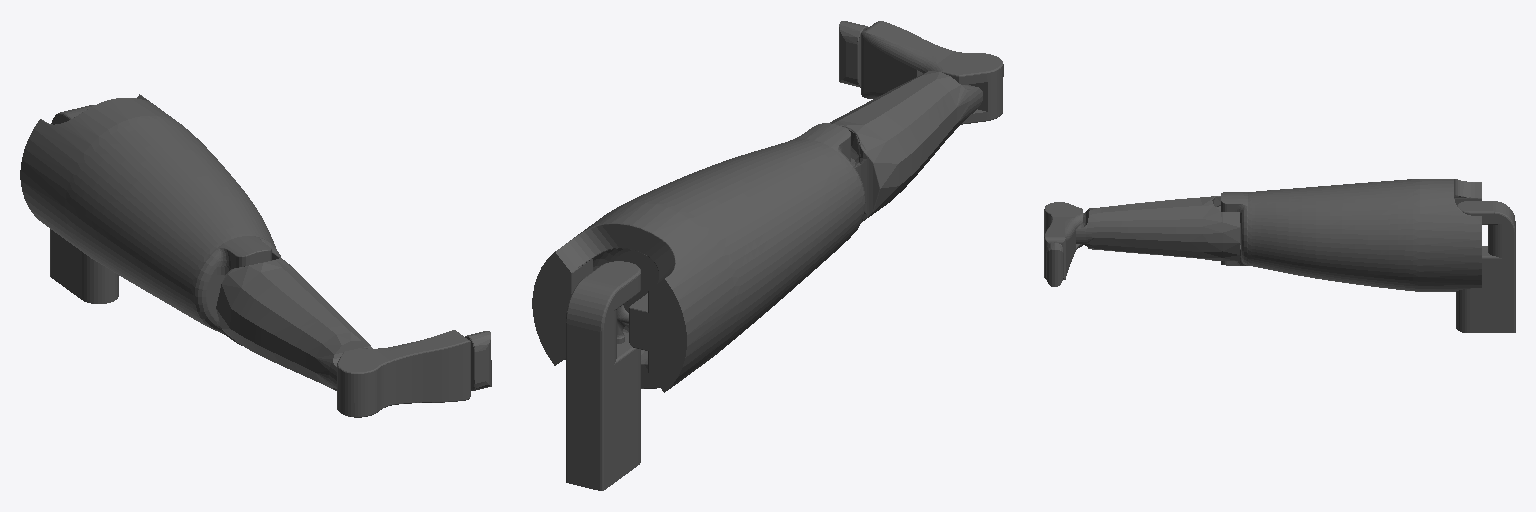
URDF robot description (robot_demo):
<?xml version="1.0"?>

<robot name="robot_demo">
  
   <material name="gray">
      <color rgba="0.4078 0.4078 0.4078 1"/>
   </material>  
 
   <link name="Hip">
      <inertial>
         <origin rpy="0 0 0" xyz="-0.1208 0.0491 0" />
         <mass value="4.15096500661102"/>
         <inertia ixx="0.0111018856" ixy="-0.0021856788" ixz="0" iyy="0.050897466" iyz="0" izz="0.0578371271" />
      </inertial>
 
      <visual>
         <geometry>
            <mesh filename="package://prosthesis/model/meshes/Hip.stl" scale="0.01 0.01 0.01"/>
         </geometry>
         <material name="gray"/>
      </visual>
 
      <collision>
         <geometry>
            <mesh filename="package://prosthesis/model/meshes/Hip.stl" scale="0.01 0.01 0.01"/>
         </geometry>
      </collision>
   </link>

   <link name="U_Joint">
      <inertial>
         <origin rpy="0 0 0" xyz="0 0 0" />
         <mass value="0.0760766233244915"/>
         <inertia ixx="3.83748E-05" ixy="0" ixz="0" iyy="9.53528E-05" iyz="0" izz="6.14204E-05" />
      </inertial>
 
      <visual>
         <geometry>
            <mesh filename="package://prosthesis/model/meshes/U_Joint.stl" scale="0.01 0.01 0.01"/>
         </geometry>
         <material name="gray"/>
      </visual>
 
      <collision>
         <geometry>
            <mesh filename="package://prosthesis/model/meshes/U_Joint.stl" scale="0.01 0.01 0.01"/>
         </geometry>
      </collision>
   </link>
 
   <link name="Thigh">
      <inertial>
         <origin rpy="0 0 0" xyz="0 -0.3081 -0.0111" />
         <mass value="40.329327914939"/>
         <inertia ixx="1.5722465158" ixy="1.90063E-05" ixz="-1.7466E-06" iyy="0.4651119469" iyz="-0.087336973" izz="1.5246716464" />
      </inertial>
 
      <visual>
         <geometry>
            <mesh filename="package://prosthesis/model/meshes/Thigh.stl" scale="0.01 0.01 0.01"/>
         </geometry>
         <material name="gray"/>
      </visual>
 
      <collision>
         <geometry>
            <mesh filename="package://prosthesis/model/meshes/Thigh.stl" scale="0.01 0.01 0.01"/>
         </geometry>
      </collision>
   </link>

   <link name="Calf">
      <inertial>
         <origin rpy="0 0 0" xyz="0 -0.8698 -0.0443" />
         <mass value="8.3979540642055"/>
         <inertia ixx="0.1337069522" ixy="-1.612E-07" ixz="4.57E-08" iyy="0.0282575571" iyz="-0.0024330515" izz="0.1300659128" />
      </inertial>
 
      <visual>
         <geometry>
            <mesh filename="package://prosthesis/model/meshes/Calf.stl" scale="0.01 0.01 0.01"/>
         </geometry>
         <material name="gray"/>
      </visual>
 
      <collision>
         <geometry>
            <mesh filename="package://prosthesis/model/meshes/Calf.stl" scale="0.01 0.01 0.01"/>
         </geometry>
      </collision>
   </link>


   <link name="Foot">
      <inertial>
         <origin rpy="0 0 0" xyz="0.0007 -1.1795 0.0232" />
         <mass value="2.01486583605614"/>
         <inertia ixx="0.0138306586" ixy="8.5771E-06" ixz="-0.0001164009" iyy="0.0150062989" iyz="0.0005280028" izz="0.0032579822" />
      </inertial>
 
      <visual>
         <geometry>
            <mesh filename="package://prosthesis/model/meshes/Foot.stl" scale="0.01 0.01 0.01"/>
         </geometry>
         <material name="gray"/>
      </visual>
 
      <collision>
         <geometry>
            <mesh filename="package://prosthesis/model/meshes/Foot.stl" scale="0.01 0.01 0.01"/>
         </geometry>
      </collision>
   </link>

   <link name="MiniU_Joint">
      <inertial>
         <origin rpy="0 0 0" xyz="0 -1.1342 -0.0434" />
         <mass value="0.0468267748967935"/>
         <inertia ixx="1.03093E-05" ixy="0" ixz="0" iyy="2.75358E-05" iyz="0" izz="2.02253E-05" />
      </inertial>
 
      <visual>
         <geometry>
            <mesh filename="package://prosthesis/model/meshes/MiniU_Joint.stl" scale="0.01 0.01 0.01"/>
         </geometry>
         <material name="gray"/>
      </visual>
 
      <collision>
         <geometry>
            <mesh filename="package://prosthesis/model/meshes/MiniU_Joint.stl" scale="0.01 0.01 0.01"/>
         </geometry>
      </collision>
   </link>
 
   <link name="Toes">
      <inertial>
         <origin rpy="0 0 0" xyz="0.0025 -1.1944 0.1876" />
         <mass value="0.303089559377311"/>
         <inertia ixx="0.000156995" ixy="0" ixz="0" iyy="0.0004208978" iyz="-2.8E-09" izz="0.0003507818" />
      </inertial>
 
      <visual>
         <geometry>
            <mesh filename="package://prosthesis/model/meshes/Toes.stl" scale="0.01 0.01 0.01"/>
         </geometry>
         <material name="gray"/>
      </visual>
 
      <collision>
         <geometry>
            <mesh filename="package://prosthesis/model/meshes/Toes.stl" scale="0.01 0.01 0.01"/>
         </geometry>
      </collision>
   </link>

 
   <joint name="Rotational_1" type="revolute">
      <parent link="Hip"/>
      <child link="U_Joint"/>
      <origin xyz="0 0 0" rpy="0 0 0"/>
      <axis xyz="0 0 1"/>
      <limit effort="300" velocity="0.1" lower="-0.70" upper="0.70"/>
   </joint>
 
 
   <joint name="Rotational_2" type="revolute">
      <parent link="U_Joint"/>
      <child link="Thigh"/>
      <origin xyz="0 0 0" rpy="0 1.57 0"/>
      <axis xyz="0 0 1"/>
      <limit effort="300" velocity="0.1" lower="-1.57" upper="0"/>
   </joint>

   <joint name="Rotational_3" type="revolute">
      <parent link="Thigh"/>
      <child link="Calf"/>
      <origin xyz="0 -0.6842 -0.04338" rpy="1.5708 -1.5708 -1.5708"/>
      <axis xyz="0 0 1"/>
      <limit effort="300" velocity="0.1" lower="-1.57" upper="0"/>
   </joint>
 
 
   <joint name="Rotational_4" type="revolute">
      <parent link="Calf"/>
      <child link="MiniU_Joint"/>
      <origin xyz="0 -0.45 0" rpy="0 0 0"/>
      <axis xyz="0 0 1"/>
      <limit effort="300" velocity="0.1" lower="-0.80" upper="0.35"/>
   </joint>
 
 
   <joint name="Rotational_5" type="revolute">
      <parent link="MiniU_Joint"/>
      <child link="Foot"/>
      <origin xyz="0 0 0" rpy="0 1.57 0"/>
      <axis xyz="0 0 1"/>
      <limit effort="300" velocity="0.1" lower="-0.20" upper="0.20"/>
   </joint>

   <joint name="Rotational_6" type="revolute">
      <parent link="Foot"/>
      <child link="Toes"/>
      <origin xyz="0.0025 -0.0601 0.1945" rpy="0 1.57 3.1416"/>
      <axis xyz="0 0 1"/>
      <limit effort="300" velocity="0.1" lower="-0.35" upper="0.30"/> 
   </joint>
</robot>

--- Render facts (derived) ---
3 views of the same robot in one strip: view 1: azimuth 30°, elevation 25°; view 2: azimuth 150°, elevation 25°; view 3: azimuth 270°, elevation 25° (orthographic).
Model robot_demo with 7 links and 6 joints (6 revolute), rooted at Hip, posed every joint at zero.
Links seen in each view (by area): view 1: Thigh, Calf, Foot, Hip, Toes; view 2: Thigh, Hip, Calf, Foot, Toes; view 3: Thigh, Calf, Hip, Foot, Toes.
Link boxes in pixels (left/top/right/bottom): Thigh: left=20, top=94, right=280, bottom=345; Calf: left=216, top=251, right=372, bottom=390; Foot: left=337, top=330, right=470, bottom=417; Hip: left=50, top=105, right=118, bottom=303; Toes: left=465, top=331, right=491, bottom=390; Thigh: left=532, top=123, right=865, bottom=392; Hip: left=566, top=261, right=640, bottom=490; Calf: left=830, top=71, right=982, bottom=222; Foot: left=861, top=21, right=1003, bottom=124; Toes: left=839, top=21, right=868, bottom=87; Thigh: left=1221, top=179, right=1481, bottom=291; Calf: left=1076, top=196, right=1240, bottom=260; Hip: left=1456, top=201, right=1515, bottom=332; Foot: left=1044, top=202, right=1082, bottom=279; Toes: left=1046, top=242, right=1063, bottom=286.
Bounding box of the posed robot: 0.3847 × 1.35 × 0.4545 m (x, y, z).
Meshes: 7 distinct files referenced, 7 mesh visuals loaded (7 binary STL).